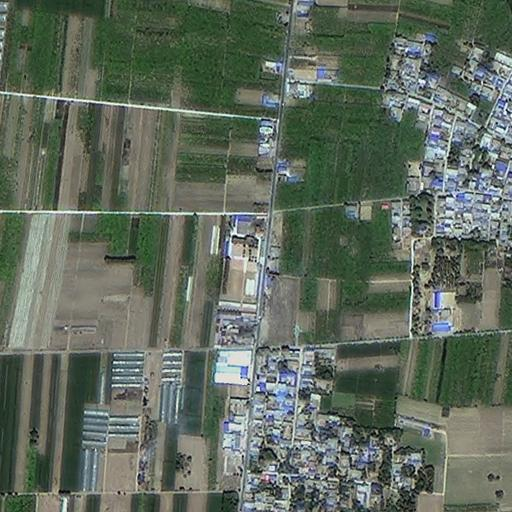school: (215, 212, 267, 311)
